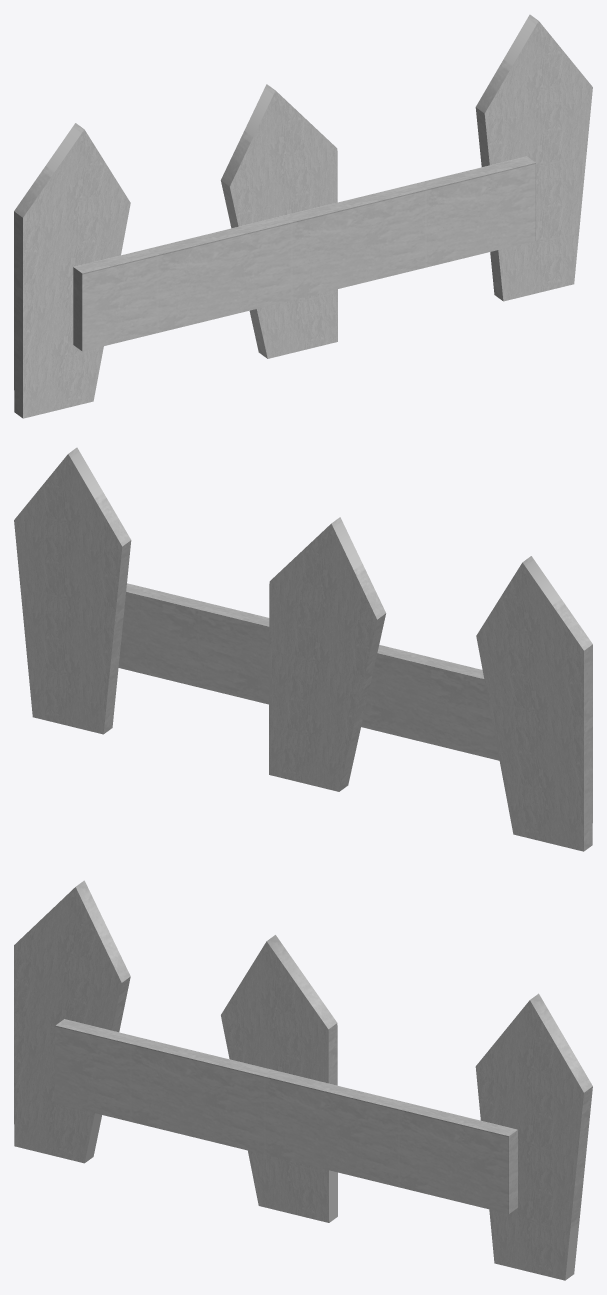
The model's file is FNC.fbx.
3 views of the same model, one above another, from view 1: azimuth 30°, elevation 25°; view 2: azimuth 150°, elevation 25°; view 3: azimuth 330°, elevation 25° (orthographic).
Parts seen in each view (by area): view 1: fenceA; view 2: fenceA; view 3: fenceA.
Boxes of the visible parts, x1,y1,x2,y2 form: fenceA: (14, 14, 592, 418); fenceA: (14, 447, 592, 851); fenceA: (14, 880, 592, 1280).
Size of the model in its own units: 191 by 87.65 by 10.4.
